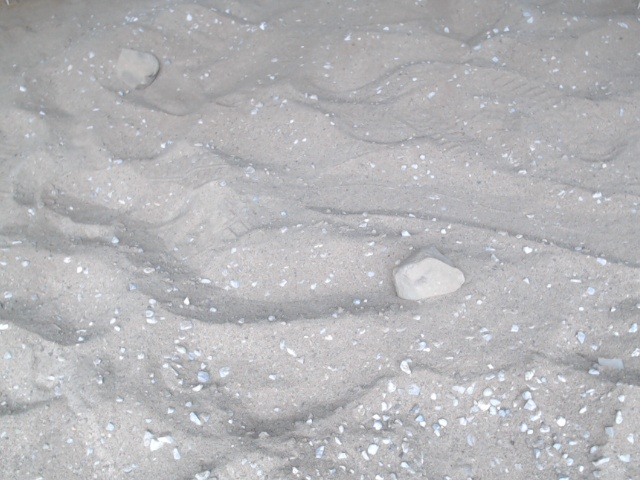rock: (386, 240, 471, 305), (108, 42, 165, 95)
